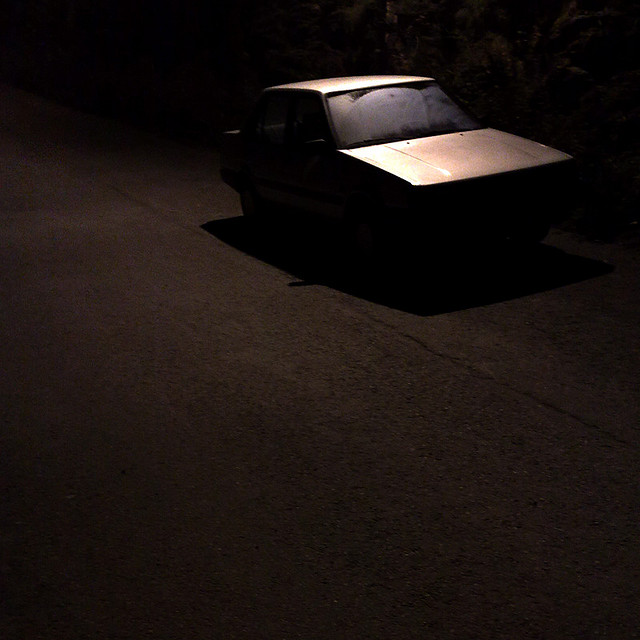car: (208, 60, 586, 299)
